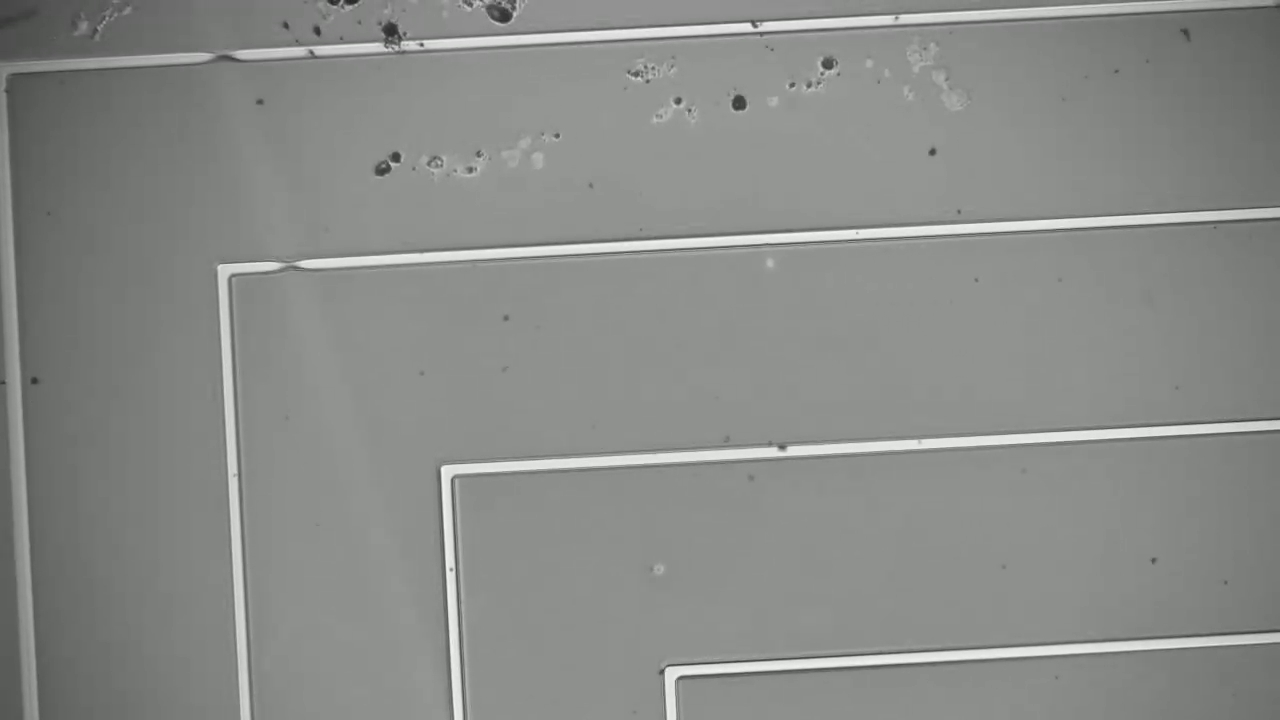edge_bite: (201, 37, 244, 77), (273, 247, 315, 280)
